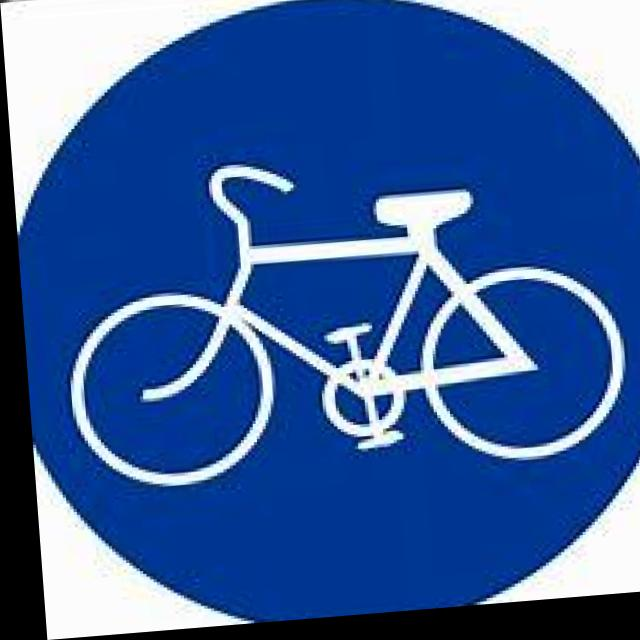COMPULSARY_CYCLE_TRACK: (1, 0, 640, 640)
